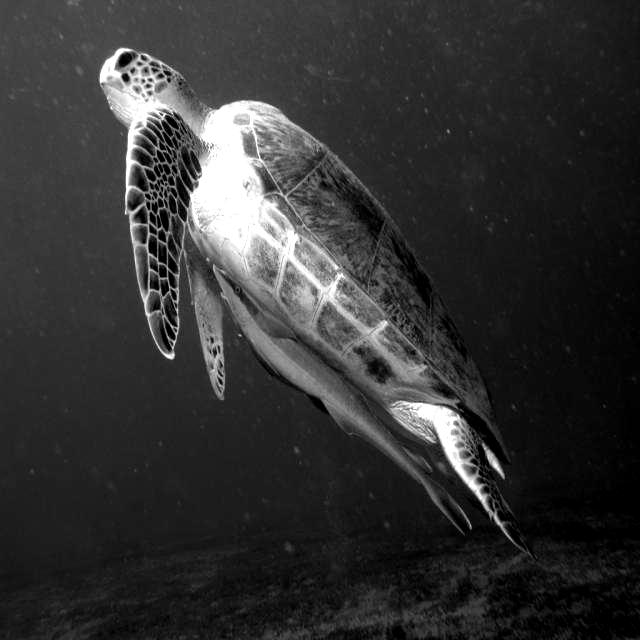Sea turtle: (96, 46, 538, 566)
